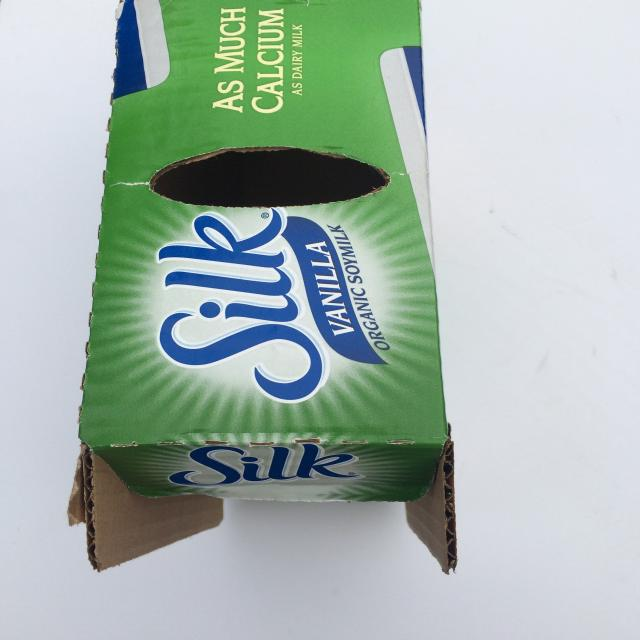cardboard: (65, 0, 472, 590)
